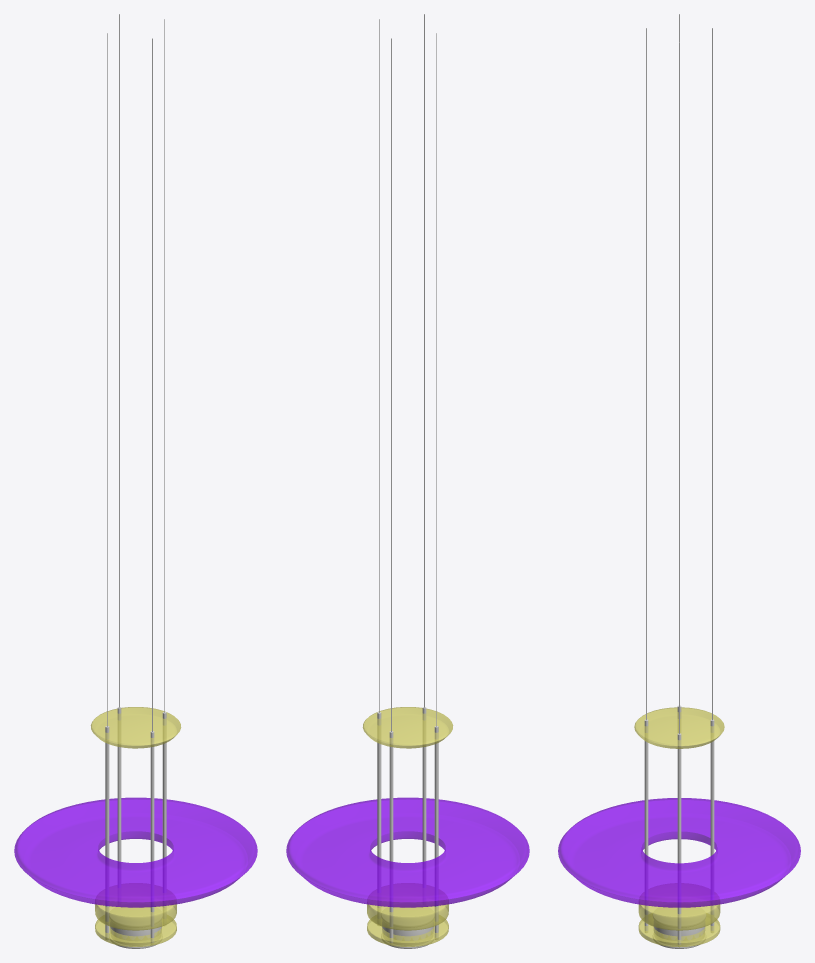
File: lamp_pendant.obj
3 renders of one model, left to right at view 1: azimuth 30°, elevation 25°; view 2: azimuth 150°, elevation 25°; view 3: azimuth 270°, elevation 25°, orthographic.
Parts seen in each view (by area): view 1: pandant__1, pandant__2, pandant; view 2: pandant__1, pandant__2, pandant; view 3: pandant__1, pandant, pandant__2.
Boxes of the visible parts, <box> form: pandant__1: <box>14,797,257,907</box>; pandant__2: <box>105,14,166,948</box>; pandant: <box>90,707,181,946</box>; pandant__1: <box>286,797,529,907</box>; pandant__2: <box>377,14,438,948</box>; pandant: <box>362,707,453,946</box>; pandant__1: <box>558,798,800,907</box>; pandant: <box>634,707,724,947</box>; pandant__2: <box>644,14,714,948</box>.
Bounding box in the file's own units: 1154 × 4766 × 1154.
